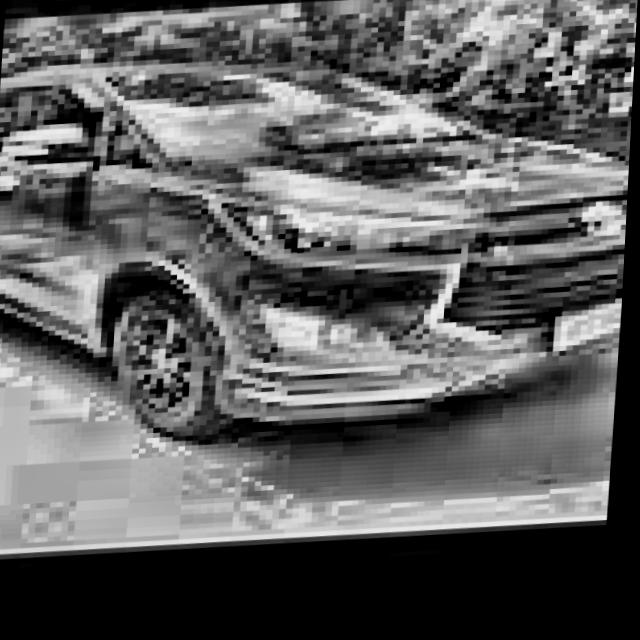light_vehicle: (0, 31, 637, 463)
